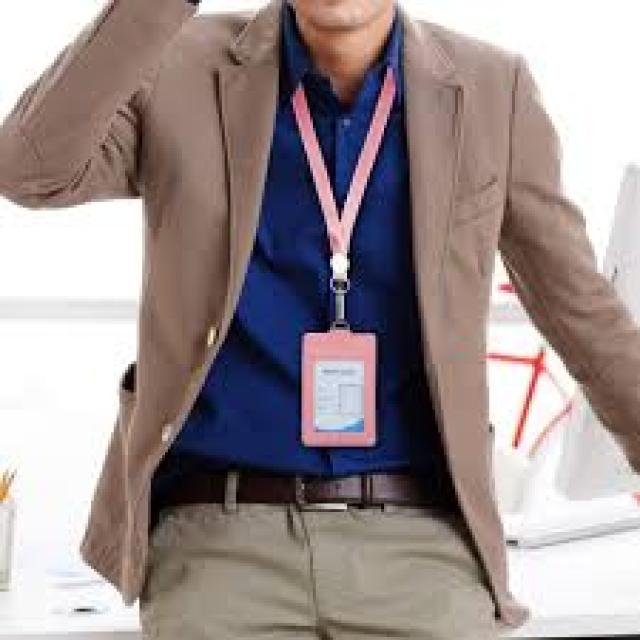id_card: (281, 80, 401, 460)
